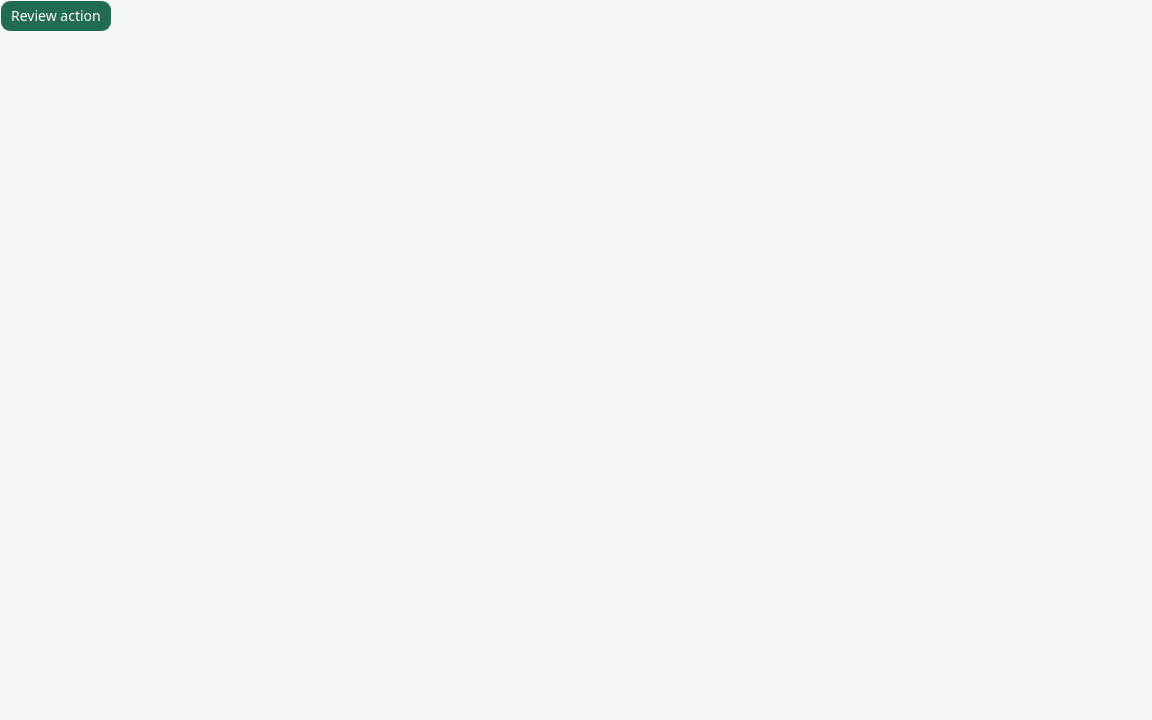
Test: opens a labelled and described dialog, focuses cancel, and restores trigger focus on dismissal
This screenshot has width=1152, height=720.
Click the button "Review action". click: (56, 16)
box: [0,0,112,32]
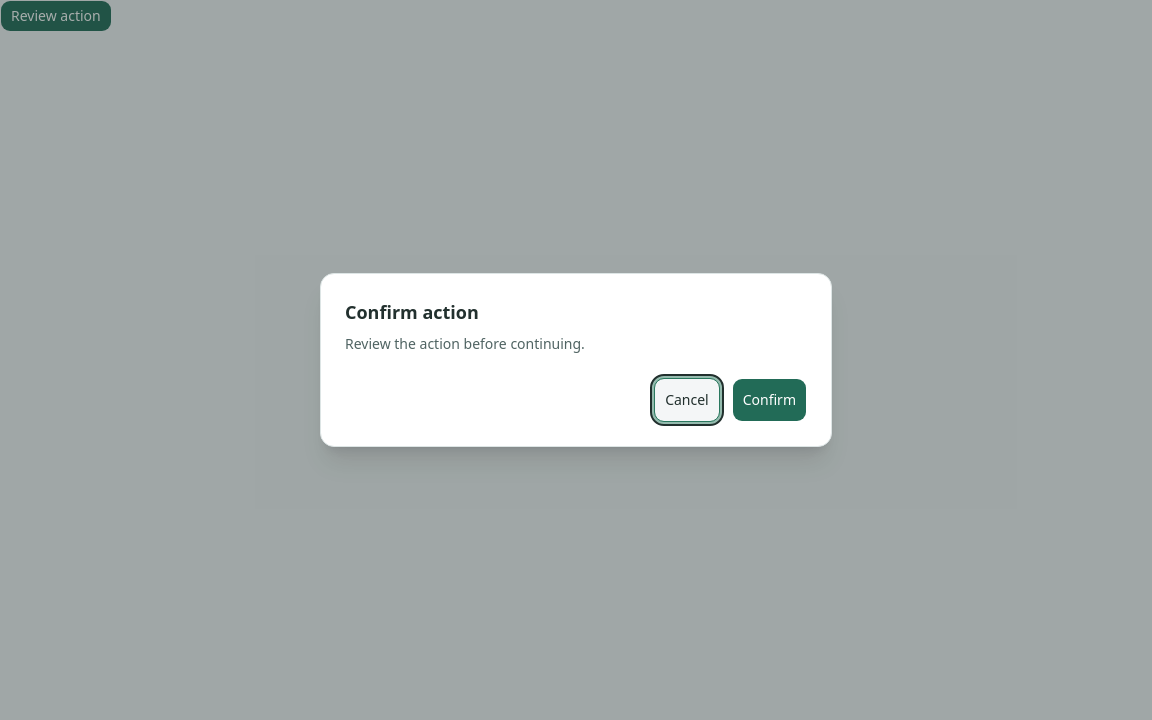
Press Escape
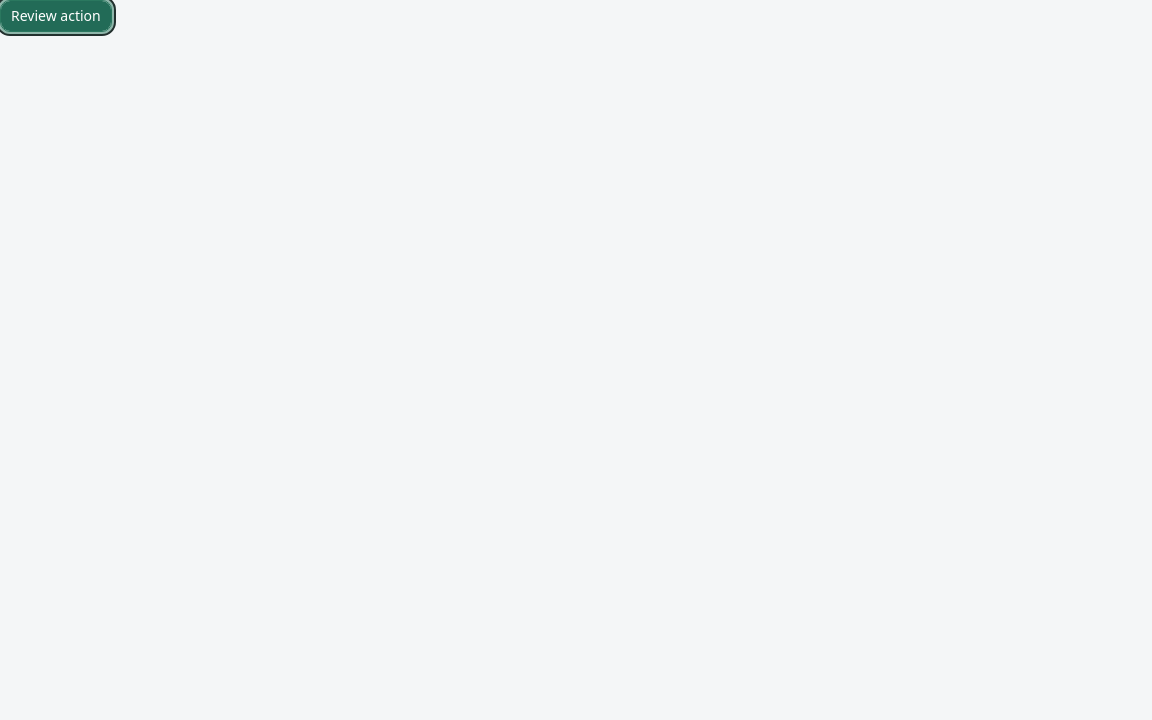
Check: the dialog is gone
